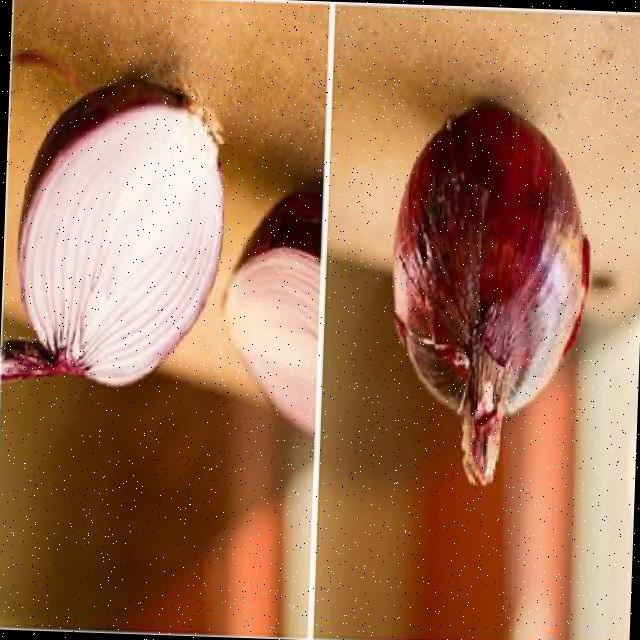Onion: (392, 103, 589, 484)
